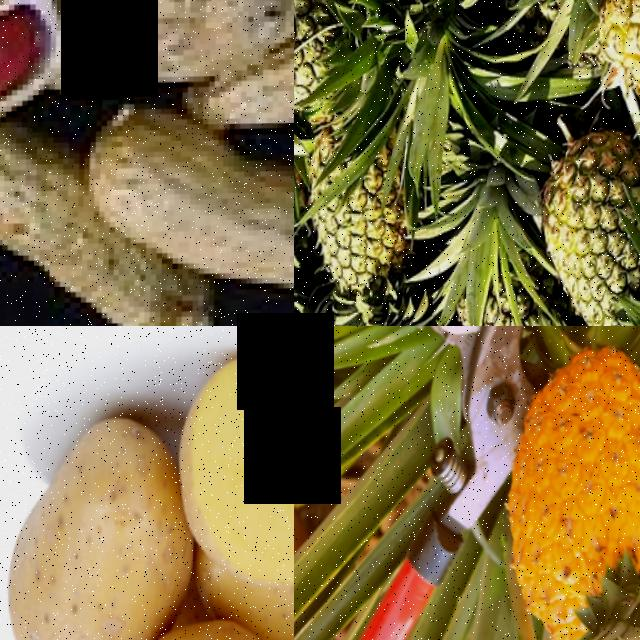peanuts: (92, 109, 294, 251), (0, 123, 90, 308), (59, 258, 220, 326)
pineapple: (497, 342, 640, 640), (297, 125, 420, 311), (537, 128, 640, 326), (294, 0, 367, 125)
potato: (0, 408, 185, 640), (176, 350, 294, 603)
